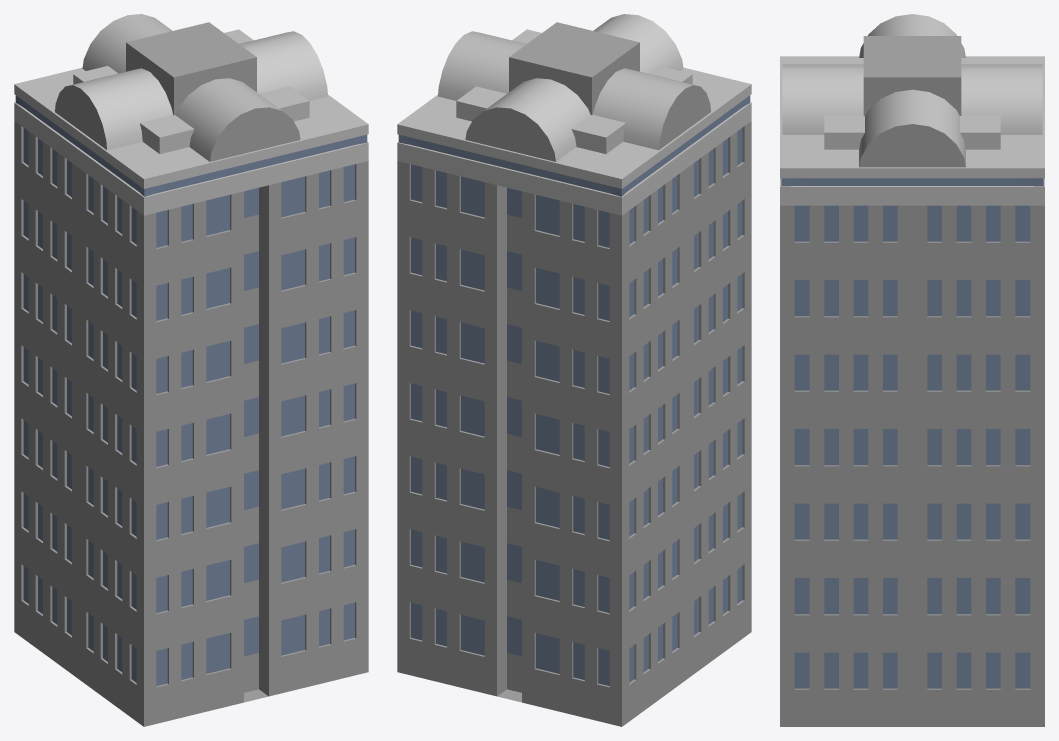
The model's file is SpecialBuilding18.fbx.
The picture shows the model from 3 angles, left to right: view 1: azimuth 30°, elevation 25°; view 2: azimuth 150°, elevation 25°; view 3: azimuth 270°, elevation 25°; orthographic projection.
Visible parts, largest first — view 1: SpecialBuilding18; view 2: SpecialBuilding18; view 3: SpecialBuilding18.
Boxes of the visible parts, x1,y1,x2,y2 form: SpecialBuilding18: (14,14,368,726); SpecialBuilding18: (397,14,751,726); SpecialBuilding18: (780,14,1044,726).
Size of the model in its own units: 4.87 by 12.81 by 4.87.
